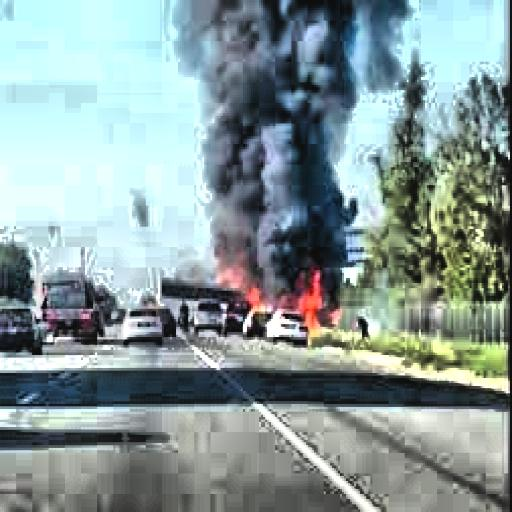fire: (214, 254, 338, 340)
